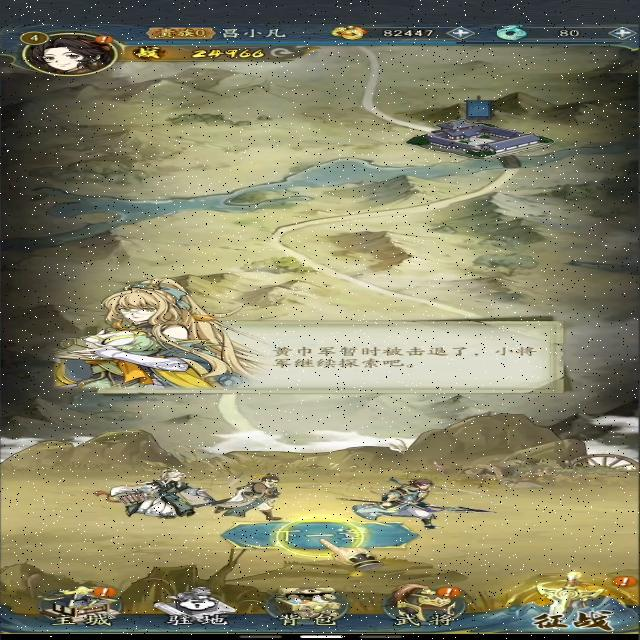hint-guide: (79, 281, 566, 400), (262, 511, 386, 573)
hint-reddot: (430, 584, 463, 600), (86, 584, 120, 599), (608, 574, 638, 590), (93, 34, 117, 45)
navigation-bag: (260, 580, 360, 630)
navigation-fight: (502, 570, 640, 631)
navigation-hero: (368, 580, 480, 630)
navigation-main: (34, 583, 125, 629)
navigation-role: (8, 24, 138, 85)
navigation-station-off: (145, 583, 243, 632)
operation-confirm: (214, 520, 425, 553)
